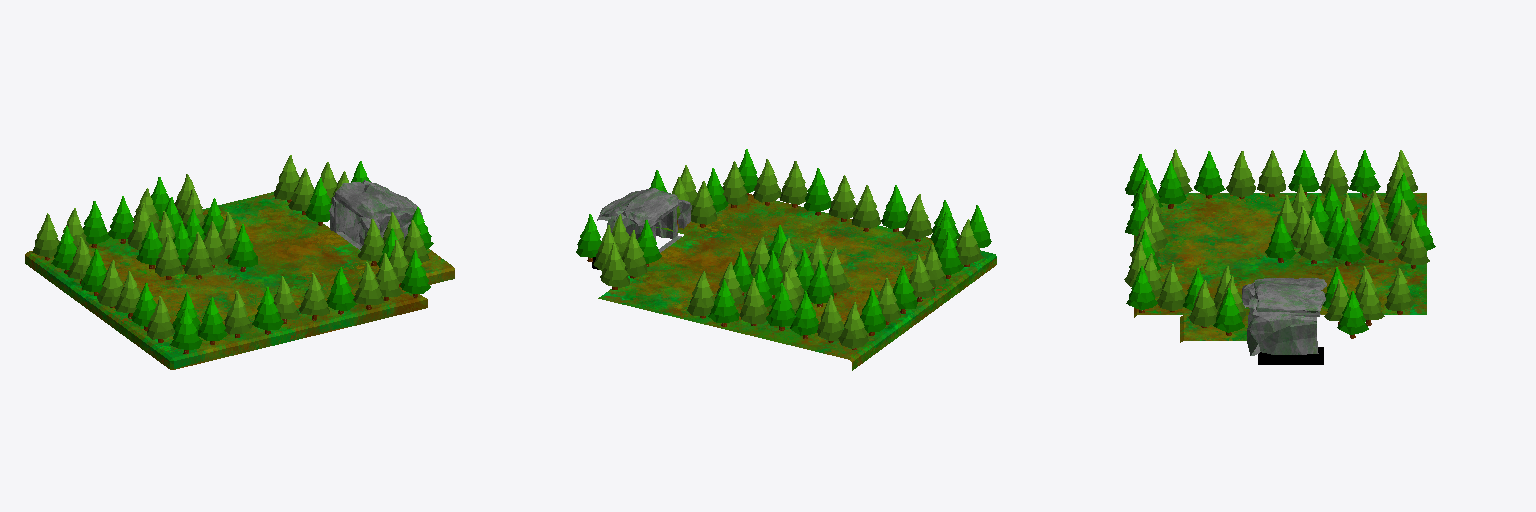
3 renders of one model, left to right at view 1: azimuth 30°, elevation 25°; view 2: azimuth 150°, elevation 25°; view 3: azimuth 270°, elevation 25°, orthographic.
Visible parts, largest first — view 1: Cube.016, techo.002, Arbol_1.284, Arbol_1.287, Arbol_1.269, Arbol_1.310, Arbol_1.273, Arbol_1.285, Arbol_1.272, Arbol_1.271, Arbol_1.276, Arbol_1.317 (+22 smaller); view 2: Cube.016, techo.002, Arbol_1.295, Arbol_1.286, Arbol_1.293, Arbol_1.289, Arbol_1.291, Arbol_1.290, Arbol_1.283, Arbol_1.292, Arbol_1.288, Arbol_1.294 (+19 smaller); view 3: Cube.016, Cube.028, techo.003, suelo_externo.001, Arbol_1.303, Arbol_1.316, Arbol_1.288, Arbol_1.307, Arbol_1.274, Arbol_1.306, Arbol_1.312, Arbol_1.302 (+15 smaller).
Boxes of the visible parts, <box> form: Cube.016: <box>25,192,427,369</box>; techo.002: <box>334,182,394,218</box>; Arbol_1.284: <box>252,287,283,334</box>; Arbol_1.287: <box>170,307,202,353</box>; Arbol_1.269: <box>400,250,430,297</box>; Arbol_1.310: <box>228,224,257,271</box>; Arbol_1.273: <box>326,267,356,314</box>; Arbol_1.285: <box>198,297,227,344</box>; Arbol_1.272: <box>299,273,329,320</box>; Arbol_1.271: <box>353,262,384,309</box>; Arbol_1.276: <box>184,232,213,279</box>; Arbol_1.317: <box>155,233,183,279</box>; Cube.016: <box>598,194,996,370</box>; techo.002: <box>622,188,678,226</box>; Arbol_1.295: <box>838,302,868,349</box>; Arbol_1.286: <box>902,194,932,241</box>; Arbol_1.293: <box>600,242,629,289</box>; Arbol_1.289: <box>708,279,739,326</box>; Arbol_1.291: <box>740,278,766,325</box>; Arbol_1.290: <box>766,283,795,330</box>; Arbol_1.283: <box>852,185,880,231</box>; Arbol_1.292: <box>790,291,818,338</box>; Arbol_1.288: <box>687,271,714,318</box>; Arbol_1.294: <box>817,295,843,342</box>; Cube.016: <box>1134,193,1426,317</box>; Cube.028: <box>1247,310,1320,355</box>; techo.003: <box>1254,286,1325,312</box>; suelo_externo.001: <box>1180,315,1247,342</box>; Arbol_1.303: <box>1226,151,1255,198</box>; Arbol_1.316: <box>1188,280,1217,327</box>; Arbol_1.288: <box>1398,220,1429,268</box>; Arbol_1.307: <box>1298,216,1330,263</box>; Arbol_1.274: <box>1157,264,1184,311</box>; Arbol_1.306: <box>1366,215,1397,262</box>; Arbol_1.312: <box>1337,291,1368,338</box>; Arbol_1.302: <box>1194,151,1225,198</box>.
Size of the model in its own units: 126 by 25.35 by 105.
Materials: 4 (4 with a texture image).